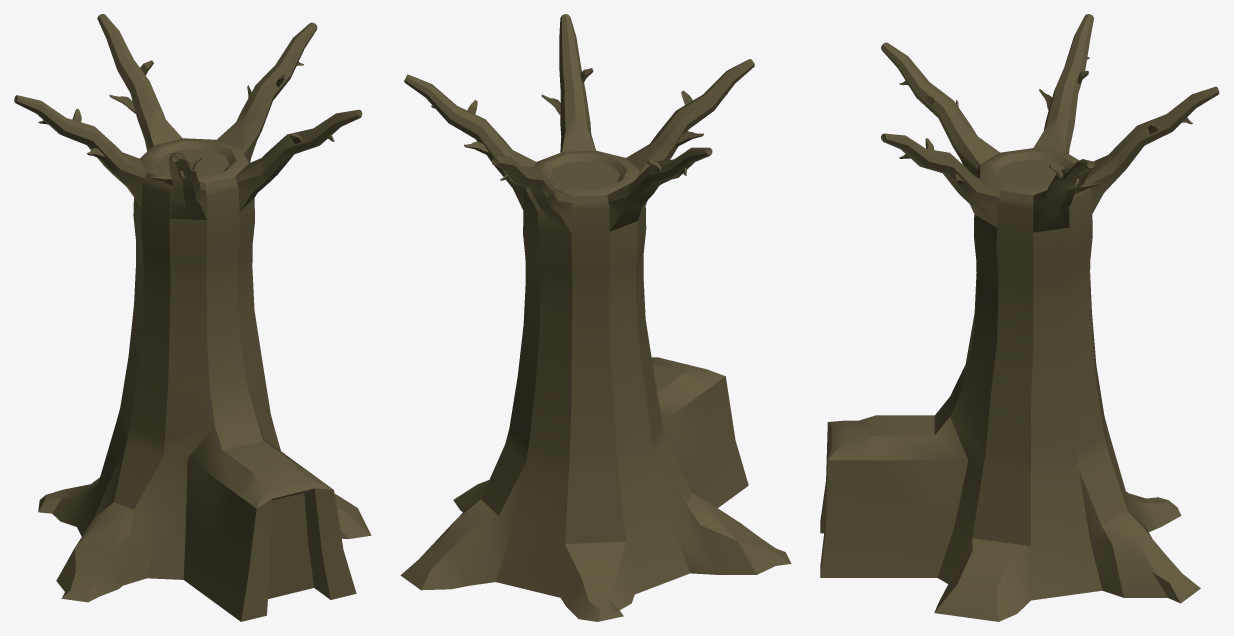
The model's file is Arbol central tronco.fbx.
3 renders of one model, left to right at view 1: azimuth 30°, elevation 25°; view 2: azimuth 150°, elevation 25°; view 3: azimuth 270°, elevation 25°, orthographic.
Parts seen in each view (by area): view 1: Arbol_central; view 2: Arbol_central; view 3: Arbol_central.
Part boxes in pixels (<box>): Arbol_central: <box>14,14,371,621</box>; Arbol_central: <box>400,14,791,621</box>; Arbol_central: <box>820,14,1219,621</box>.
Bounding box in the file's own units: 14.94 × 20.26 × 15.9.
